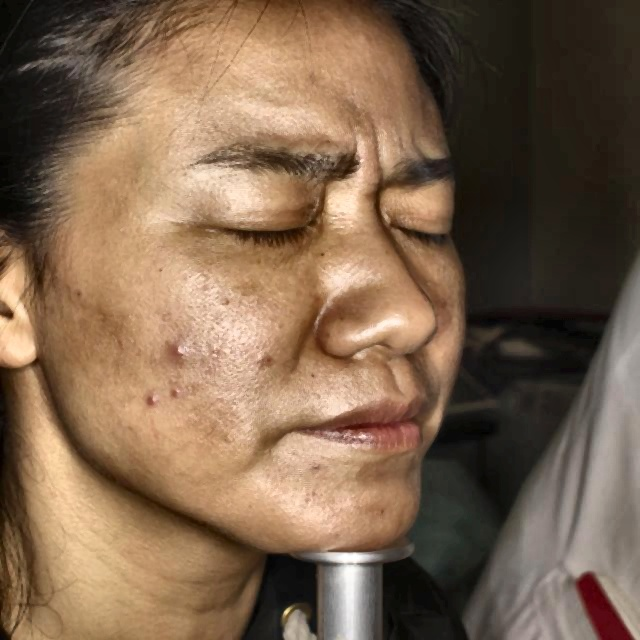comedone: (166, 338, 194, 366), (139, 387, 161, 415)
